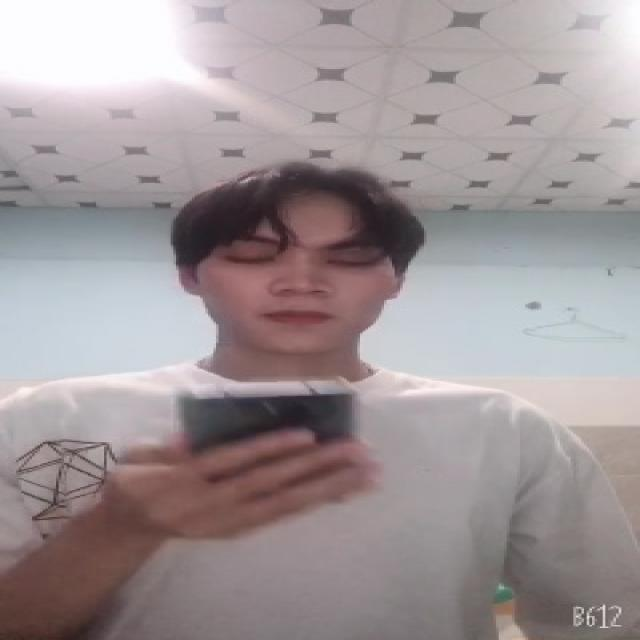Phone: (176, 383, 357, 462)
